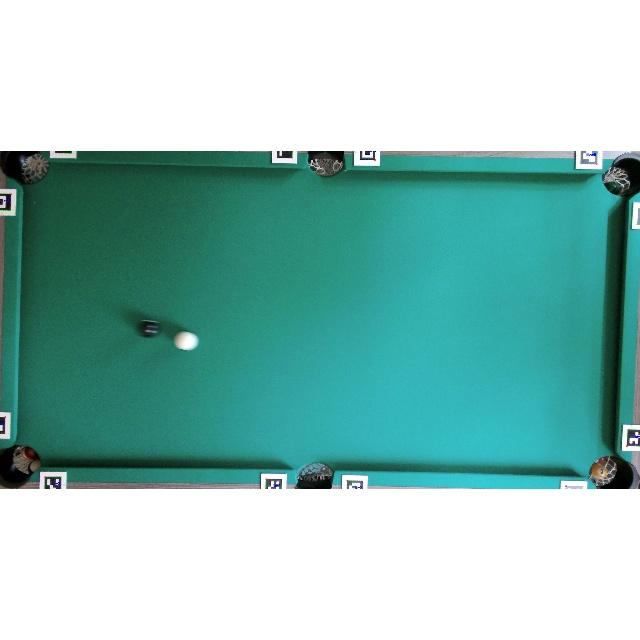cue ball: (172, 329, 199, 352)
other: (140, 319, 160, 338)
